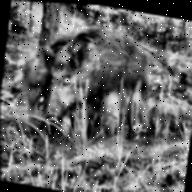boar: (45, 30, 156, 143), (5, 55, 61, 144)
